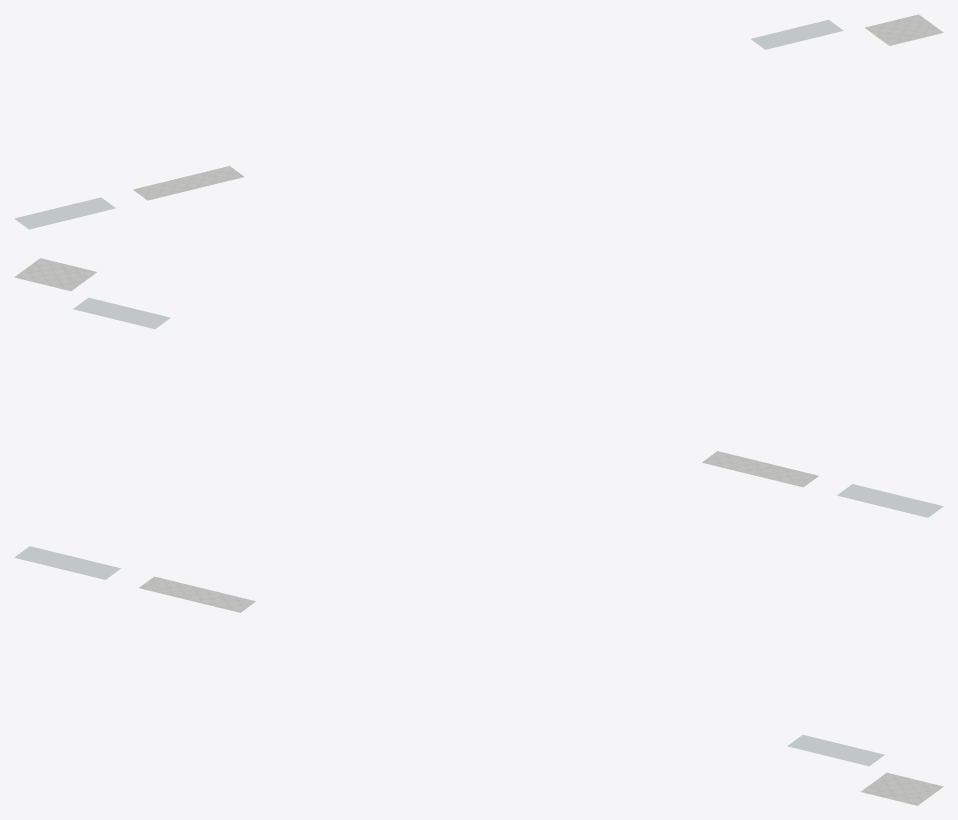
Rendered from 20_n2_centrales_de_enfermeria.glb.
3 views of the same model, one above another, from view 1: azimuth 30°, elevation 25°; view 2: azimuth 150°, elevation 25°; view 3: azimuth 330°, elevation 25° (orthographic). The views are drawn at different scales.
Parts seen in each view (by area): view 1: piso · Cuarto de medicamentos simulado · hospitalización, piso · Cuarto de medicamentos simulado · UCI, piso · Central de enfermería · bahía, piso · Central de enfermería UCI · bahía; view 2: piso · Cuarto de medicamentos simulado · hospitalización, piso · Cuarto de medicamentos simulado · UCI, piso · Central de enfermería · bahía, piso · Central de enfermería UCI · bahía; view 3: piso · Cuarto de medicamentos simulado · hospitalización, piso · Cuarto de medicamentos simulado · UCI, piso · Central de enfermería · bahía, piso · Central de enfermería UCI · bahía.
Boxes of the visible parts, <box> form: piso · Cuarto de medicamentos simulado · hospitalización: <box>133,166,244,200</box>; piso · Cuarto de medicamentos simulado · UCI: <box>865,14,943,45</box>; piso · Central de enfermería · bahía: <box>14,197,115,229</box>; piso · Central de enfermería UCI · bahía: <box>751,19,843,49</box>; piso · Cuarto de medicamentos simulado · hospitalización: <box>702,451,818,487</box>; piso · Cuarto de medicamentos simulado · UCI: <box>14,258,96,291</box>; piso · Central de enfermería · bahía: <box>837,484,943,517</box>; piso · Central de enfermería UCI · bahía: <box>73,297,170,328</box>; piso · Cuarto de medicamentos simulado · hospitalización: <box>139,576,255,612</box>; piso · Cuarto de medicamentos simulado · UCI: <box>861,772,943,805</box>; piso · Central de enfermería · bahía: <box>14,546,120,579</box>; piso · Central de enfermería UCI · bahía: <box>787,735,884,766</box>.
Size of the model in its own units: 40.75 by 0 by 3.35.
2 materials, 1 textured.
